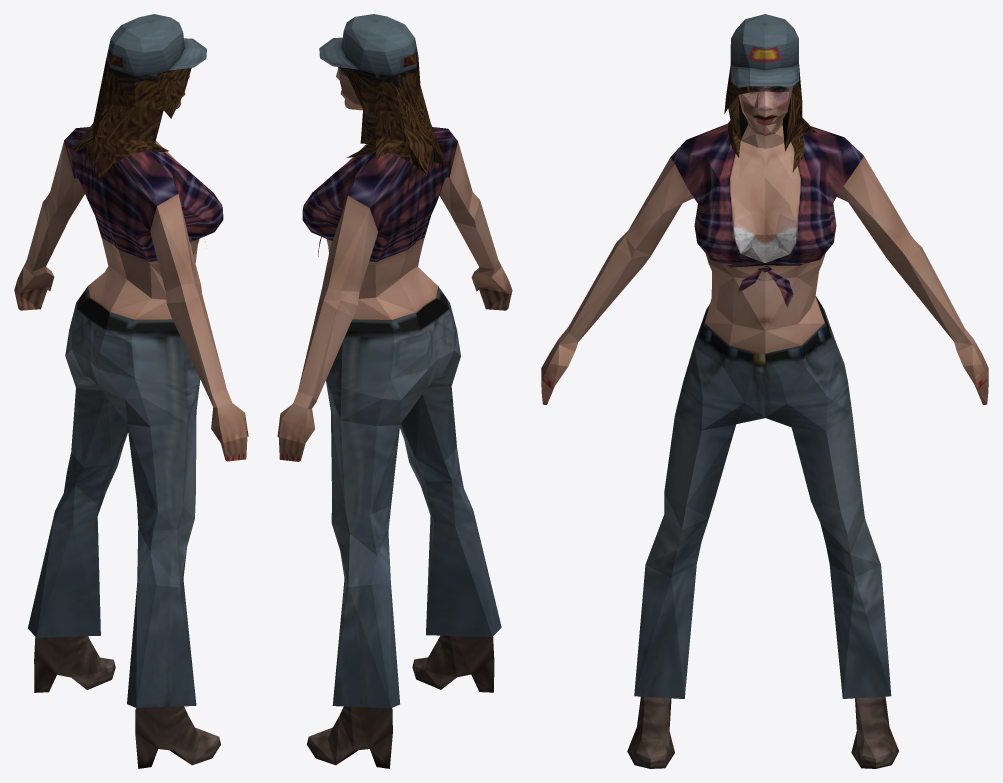
Rendered from dwfylc2.obj.
3 views of the same model, side by side, from view 1: azimuth 30°, elevation 25°; view 2: azimuth 150°, elevation 25°; view 3: azimuth 270°, elevation 25° (orthographic). The views are drawn at different scales.
Visible parts, largest first — view 1: _Pelvis; view 2: _Pelvis; view 3: _Pelvis.
Part boxes in pixels (x1,y1,x2,y2): _Pelvis: [14, 14, 248, 768]; _Pelvis: [277, 14, 512, 768]; _Pelvis: [541, 14, 988, 768].
Bounding box in the file's own units: 0.329 × 1.79 × 0.9791.
1 material, 1 textured.
